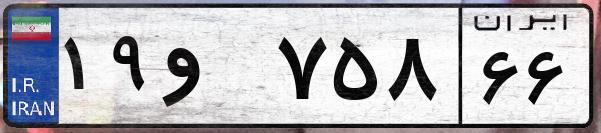1: (57, 26, 110, 100)
5: (330, 28, 385, 110)
6: (475, 38, 525, 113), (525, 38, 570, 115)
7: (270, 28, 330, 110)
8: (385, 28, 445, 110)
9: (110, 28, 158, 98)
و: (158, 20, 270, 120)
